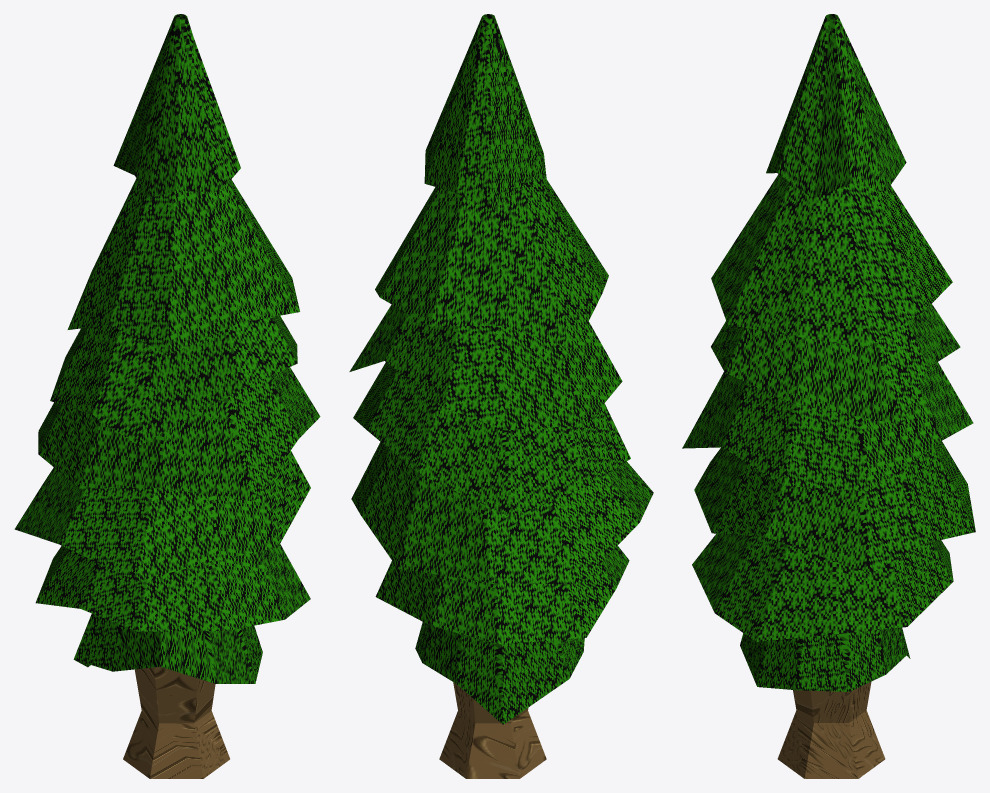
Rendered from PineTree.fbx.
3 views of the same model, side by side, from view 1: azimuth 30°, elevation 25°; view 2: azimuth 150°, elevation 25°; view 3: azimuth 270°, elevation 25° (orthographic).
Parts seen in each view (by area): view 1: Cylinder; view 2: Cylinder; view 3: Cylinder.
Part boxes in pixels (bbox=[...]): Cylinder: bbox=[14, 14, 320, 778]; Cylinder: bbox=[349, 14, 653, 778]; Cylinder: bbox=[682, 14, 975, 778].
Size of the model in its own units: 793 by 2208 by 790.
